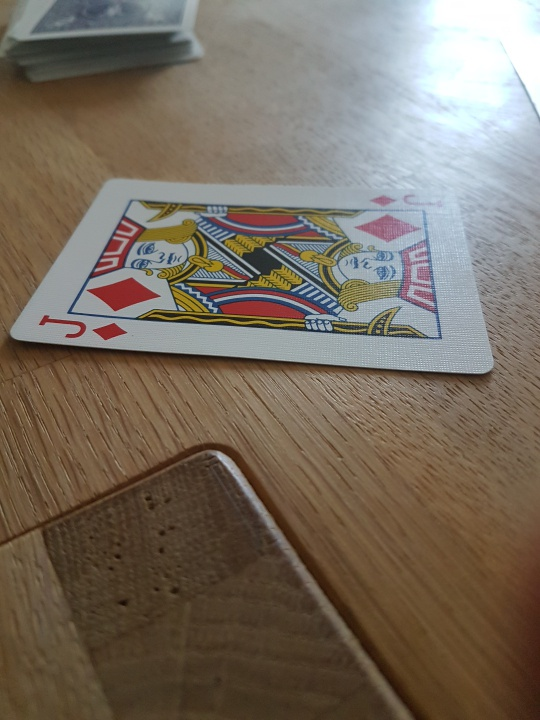jack: (9, 170, 495, 380)
